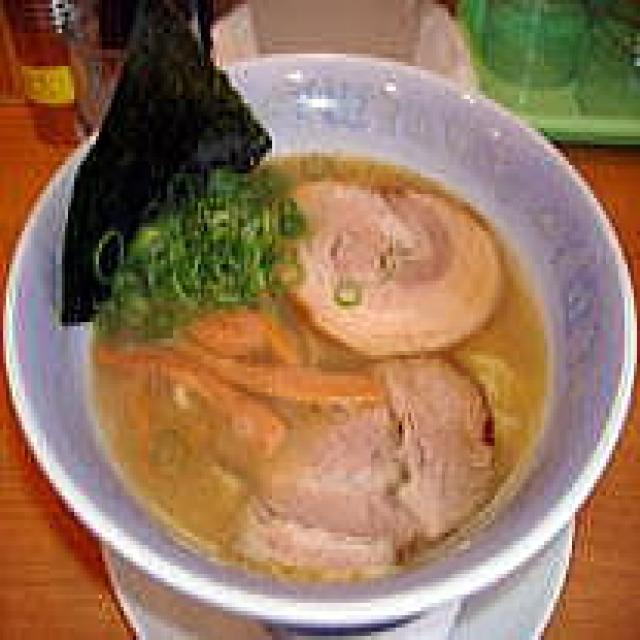面条主食: (0, 37, 631, 615)
